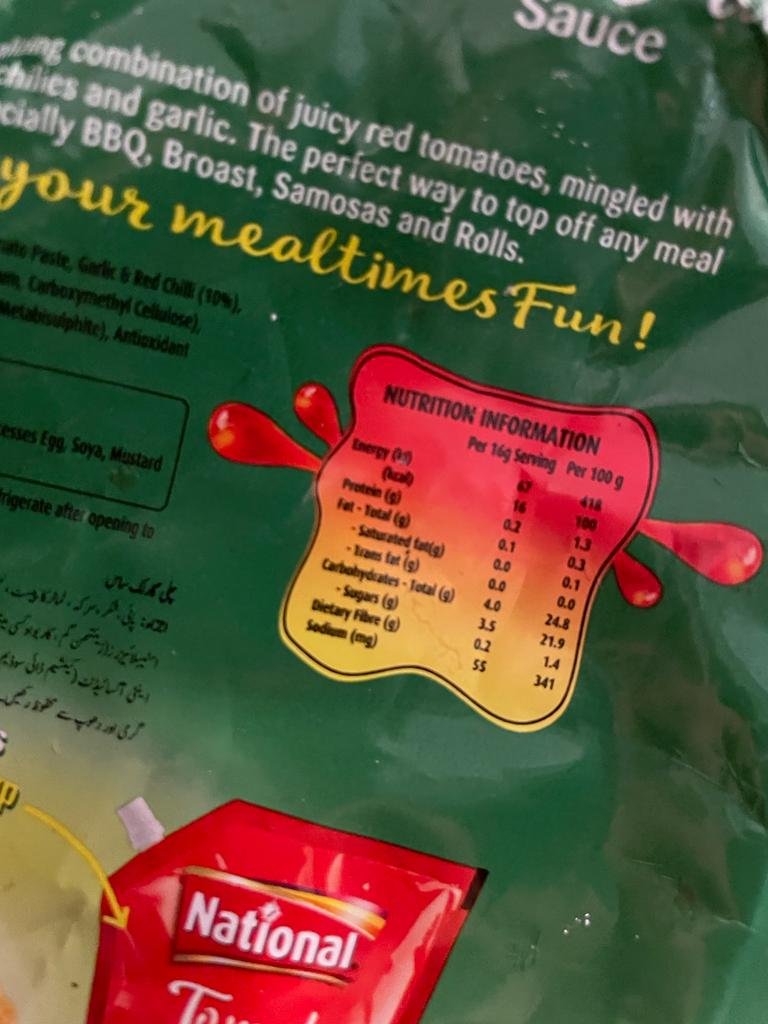table: (285, 341, 649, 733)
